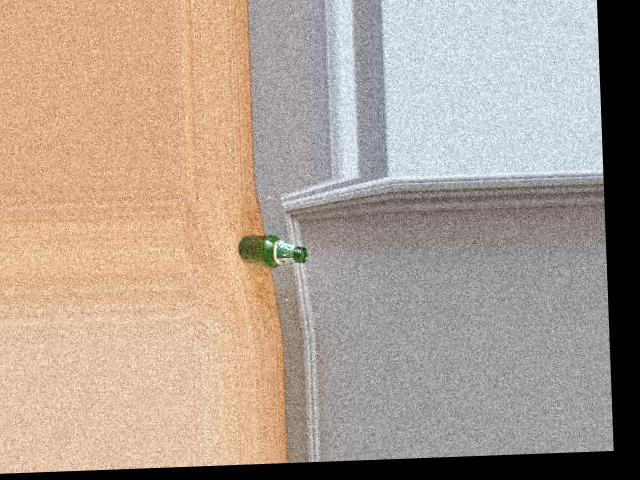beer: (237, 232, 307, 269)
